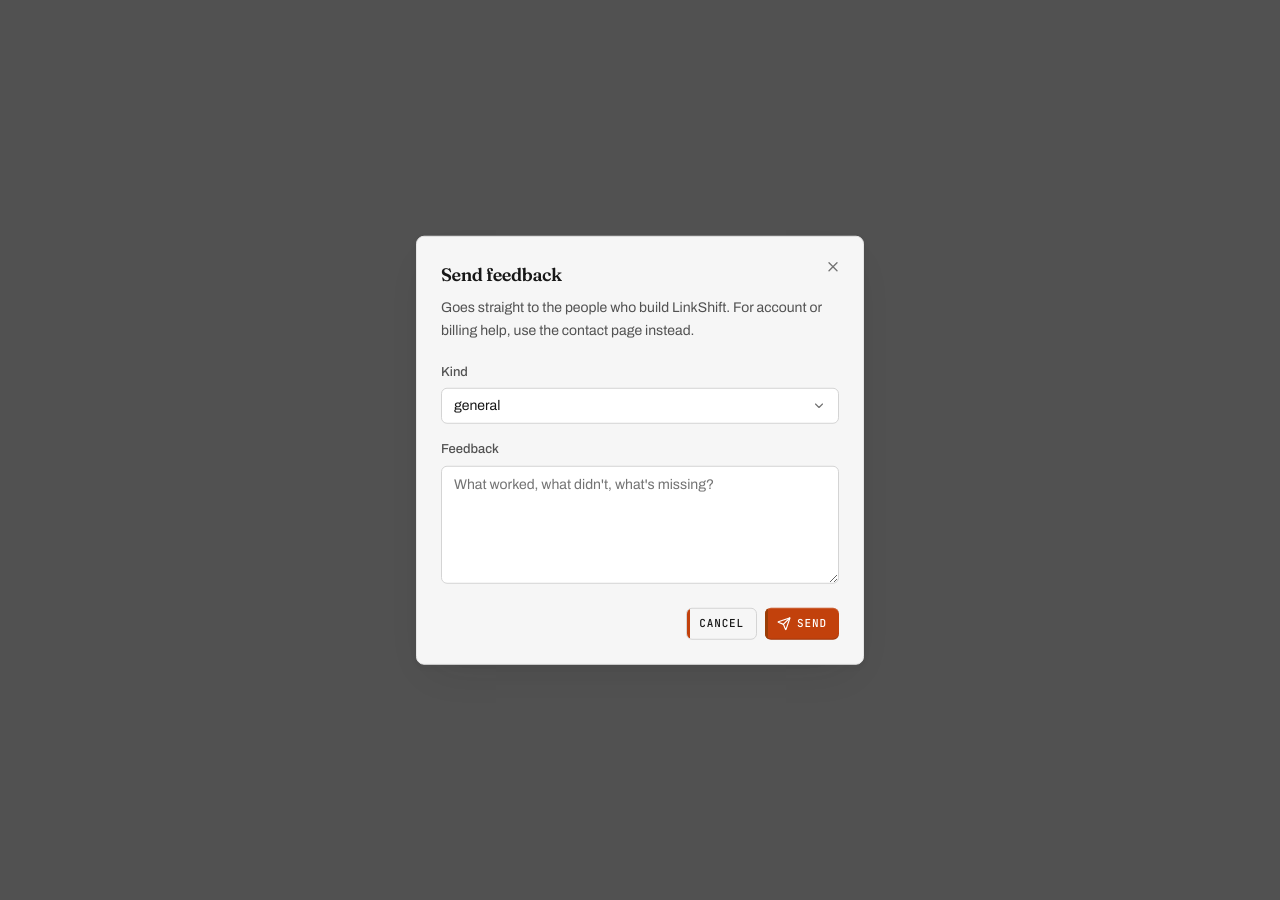
Scenario: Feedback dialog › rejects feedback shorter than 10 characters
The image size is (1280, 900).
Click the button "Send" at (802, 623), box 765,607 -> 839,639
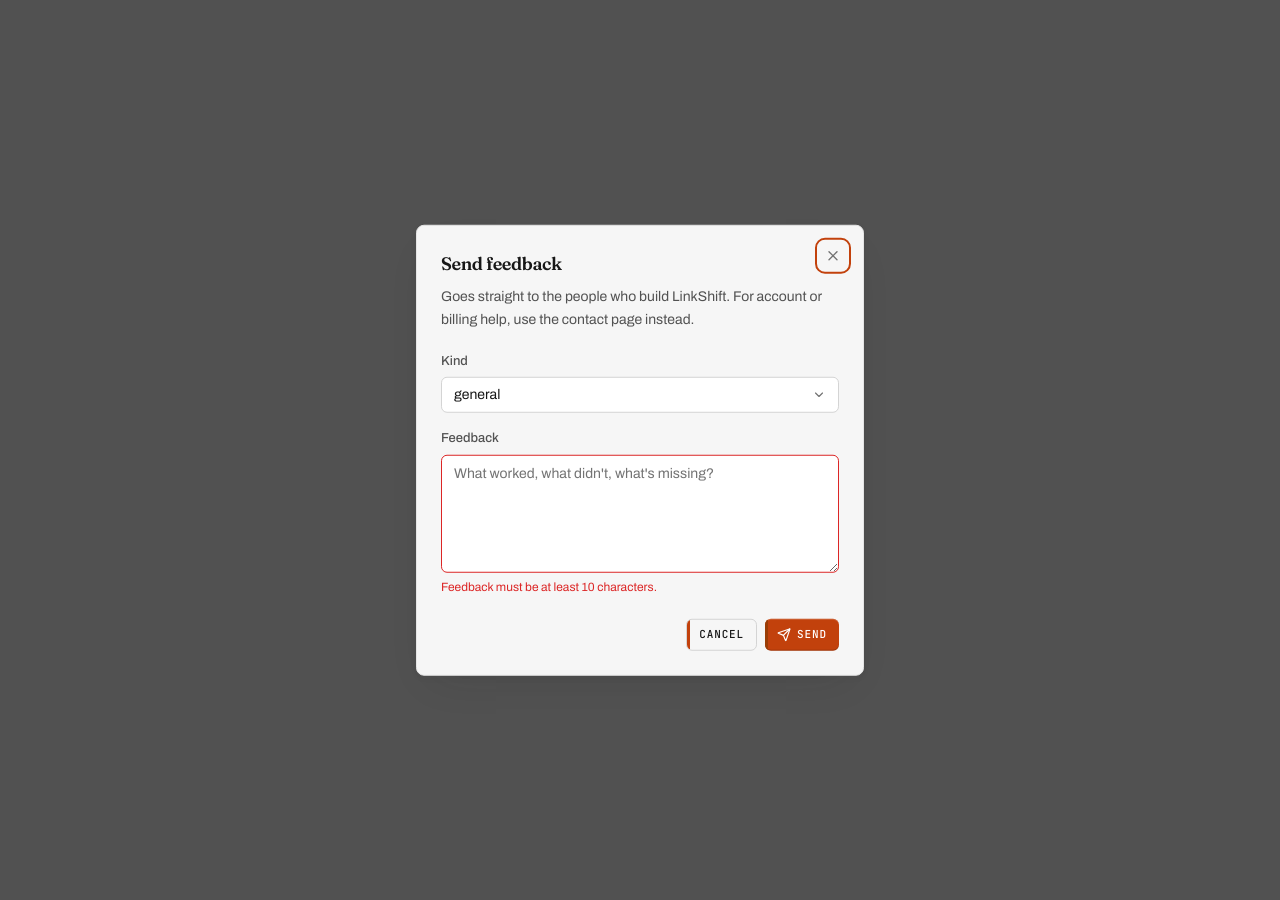
Expected: the text "Feedback must be at least 10 characters." is shown, 441,579 -> 657,593
